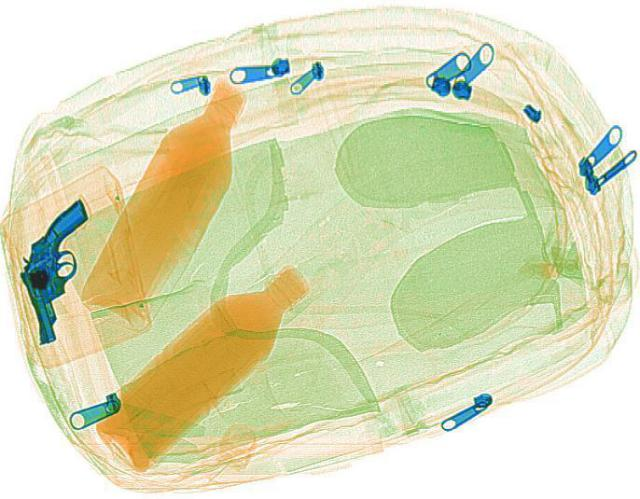Gun: (0, 197, 121, 343)
